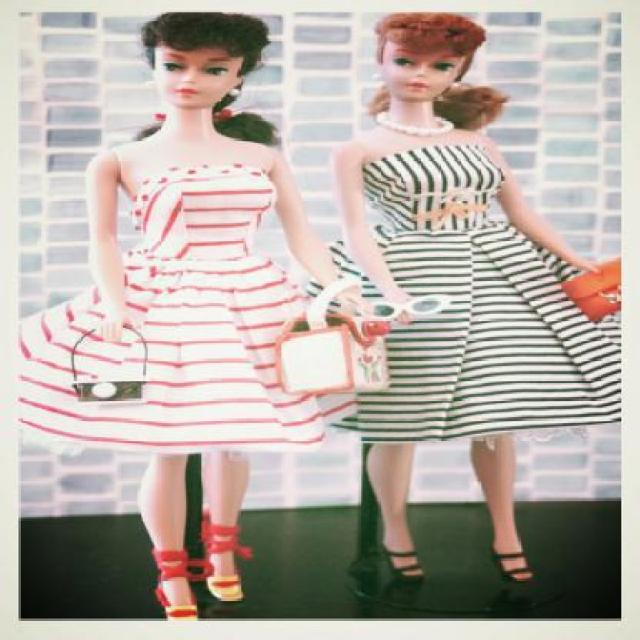Person: (16, 11, 381, 618), (307, 11, 622, 600)
